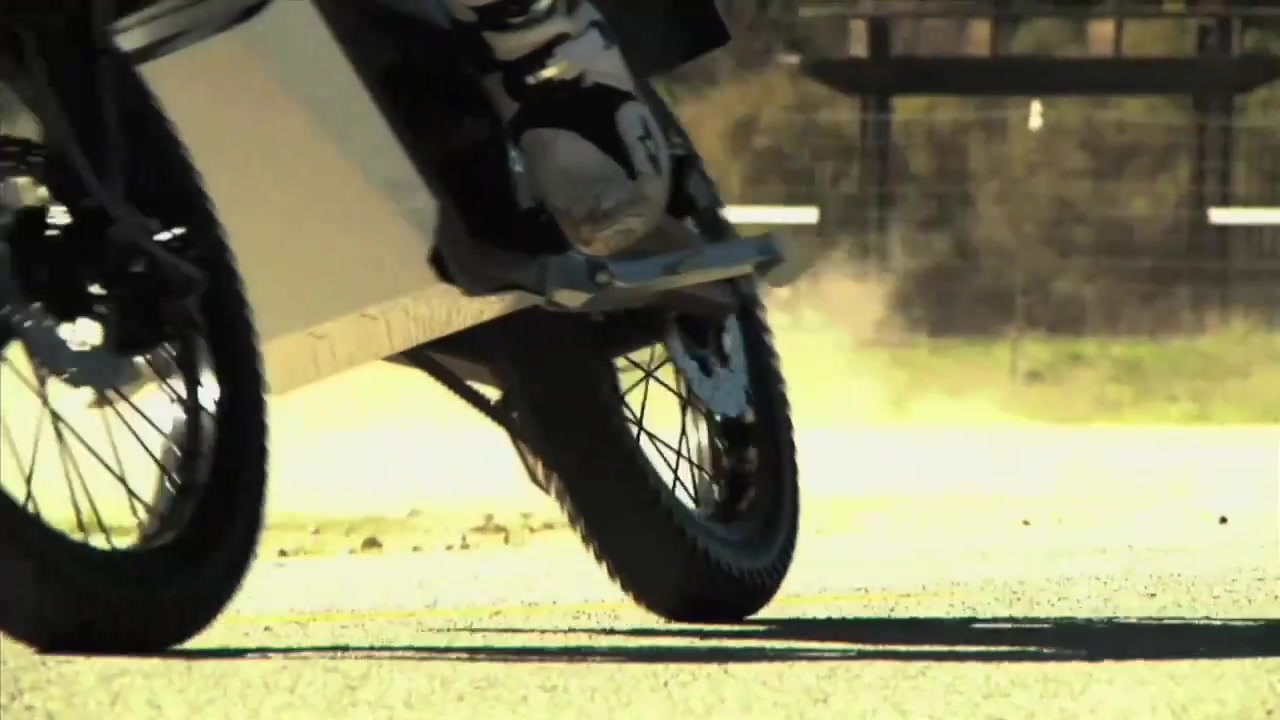motorbike: (1, 1, 802, 657)
